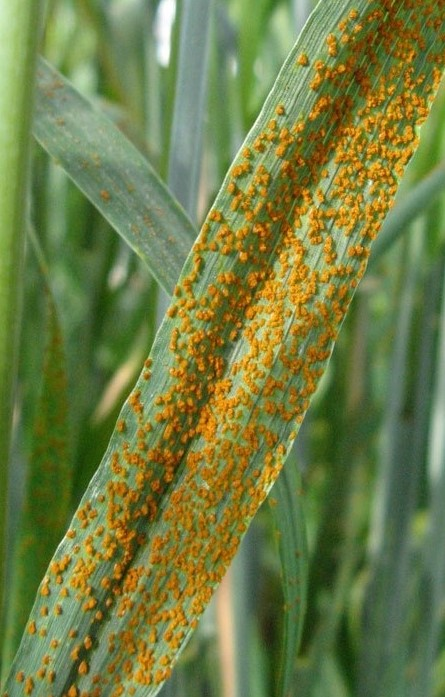Leaf Rust: (92, 79, 421, 632)
